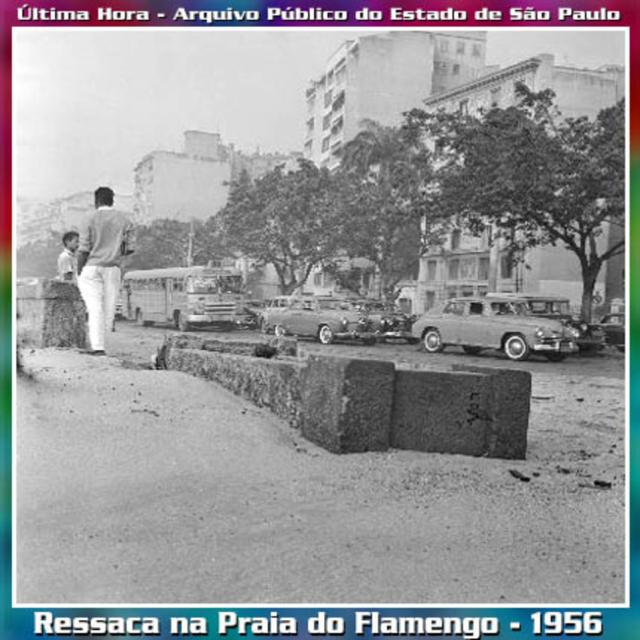Buses: (124, 264, 246, 334)
Pedestrians: (77, 185, 137, 363)
